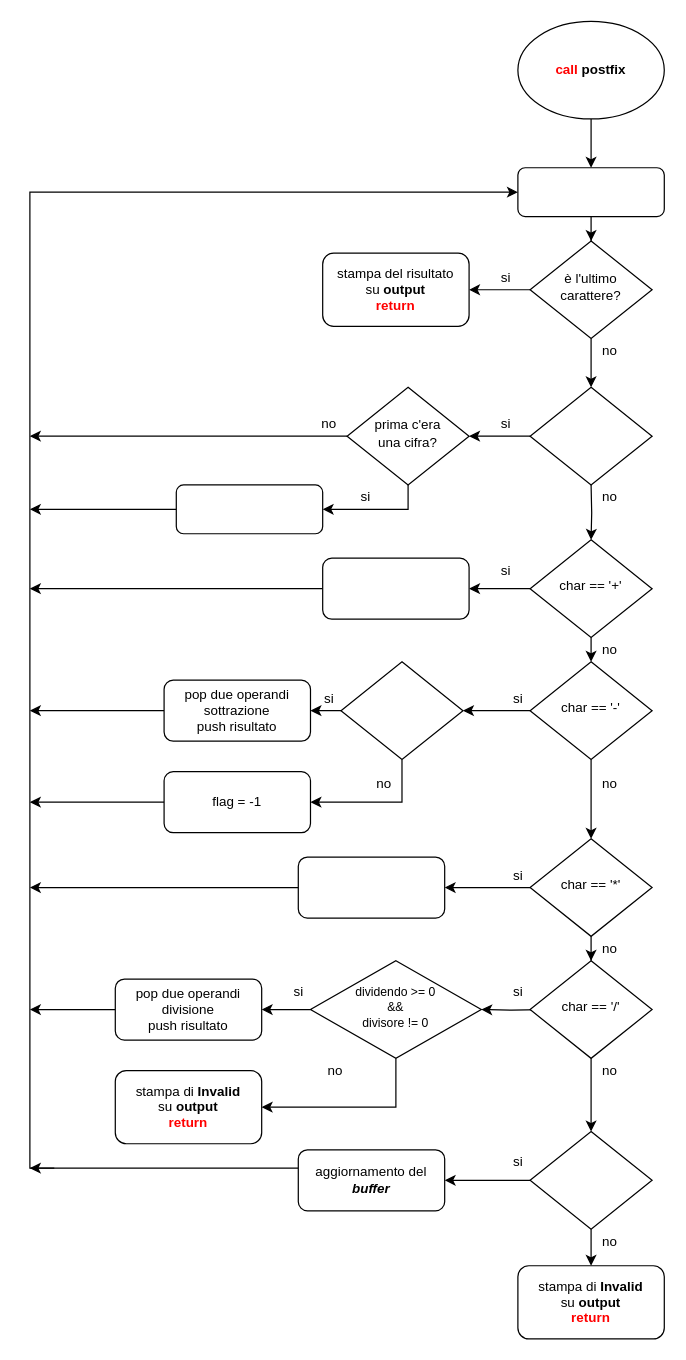
This 686x1360 diagram has some shape labels left out. The shapes that lost their labels are listed below. From the top down, each one's box as (x1, y1, x2, y2) in pixels, then its label:
(517, 167, 664, 217): lettura carattere successivo
(529, 386, 652, 485): è uno spazio?
(175, 484, 323, 534): push del buffer
(321, 557, 469, 619): pop due operandi somma push risultato
(340, 661, 463, 759): dopo c'è uno spazio?
(297, 856, 445, 918): pop due operandi moltiplicazione push risultato
(529, 1130, 652, 1229): è una cifra?
